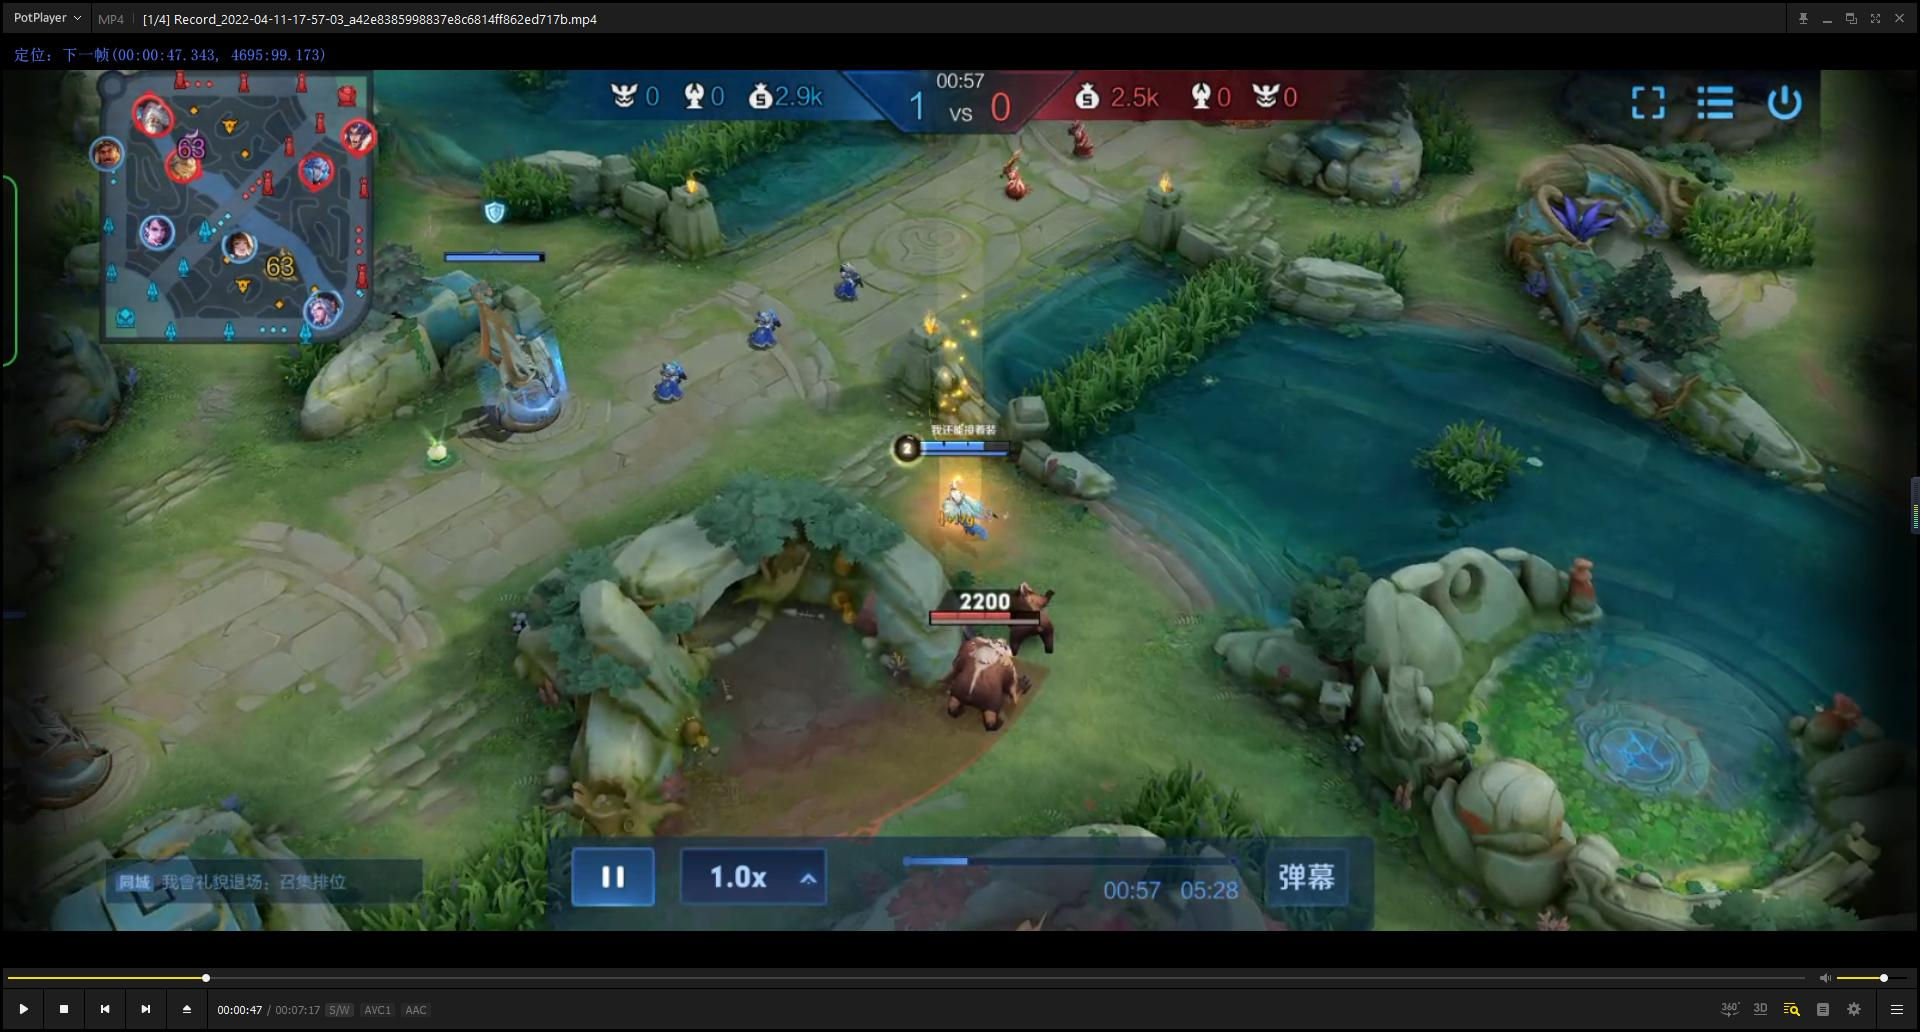Hero: (909, 461, 1023, 564)
Pig: (961, 559, 1067, 675), (936, 602, 1031, 727)
Solider: (978, 140, 1056, 219), (727, 299, 801, 372), (632, 341, 695, 418), (818, 258, 887, 322), (1047, 125, 1118, 173)
Tower: (407, 225, 592, 437)
